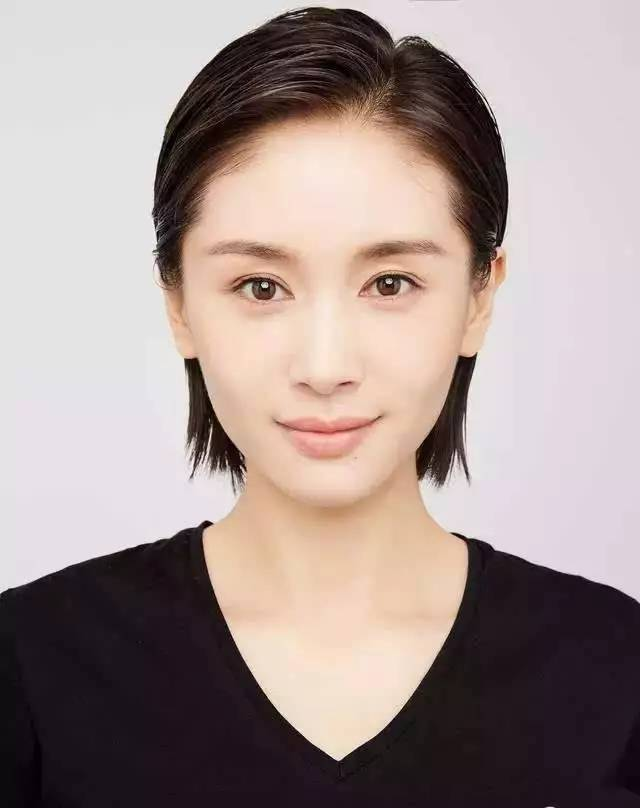unmask: (196, 173, 446, 488)
